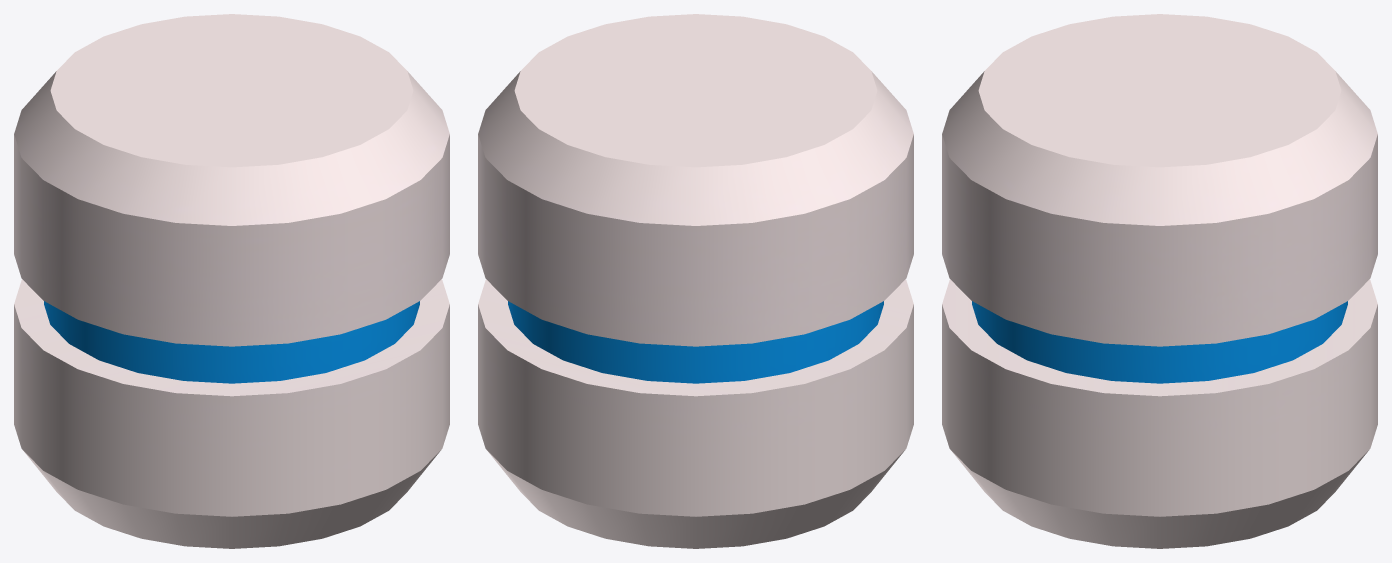
Rendered from barril 2.fbx.
3 views of the same model, side by side, from view 1: azimuth 30°, elevation 25°; view 2: azimuth 150°, elevation 25°; view 3: azimuth 270°, elevation 25° (orthographic).
Visible parts, largest first — view 1: Circle.007, Circle.009; view 2: Circle.007, Circle.009; view 3: Circle.007, Circle.009.
Part boxes in pixels (x1,y1,x2,y2): Circle.007: (14, 14, 449, 548); Circle.009: (44, 301, 419, 383); Circle.007: (478, 14, 913, 548); Circle.009: (508, 301, 883, 383); Circle.007: (942, 14, 1377, 548); Circle.009: (972, 301, 1347, 383).
Size of the model in its own units: 264 by 255 by 264.
